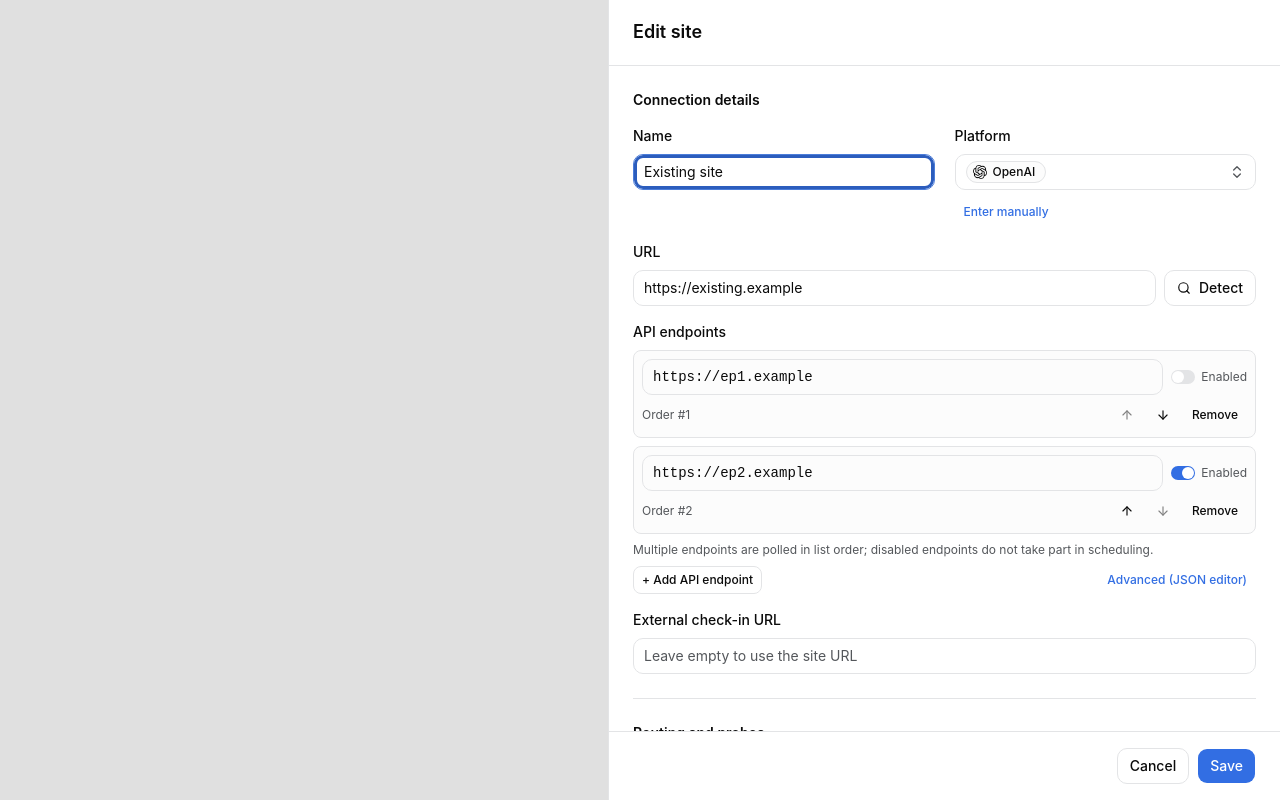
Scenario: SiteFormSheet apiEndpoints untouched-preserve semantics › marks the form dirty for the dirty-close guard when only the editor changes
What coordinates should you click on to do the following:
click the switch named "Enable endpoint 1"
I would click on:
 (1183, 377)
Its box is [1171,370,1195,384].
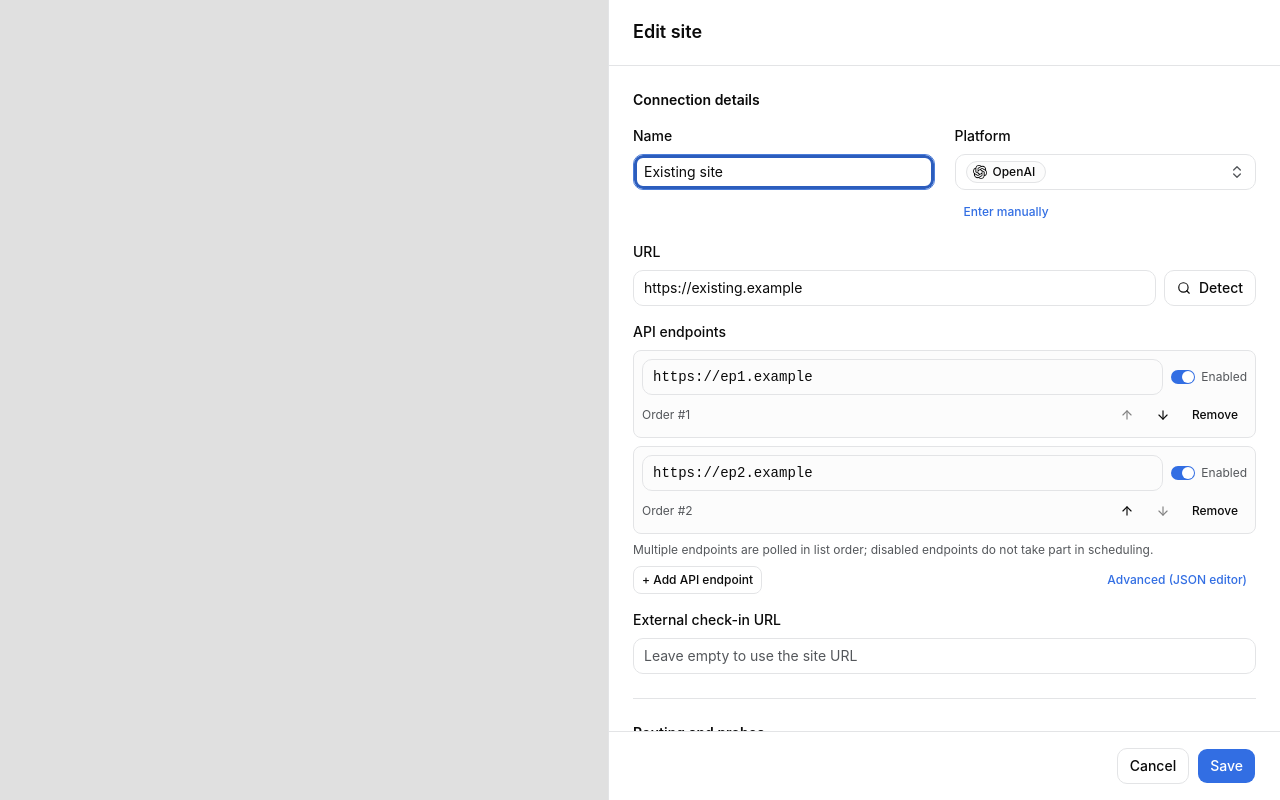
What coordinates should you click on to do the following:
click the button "Cancel"
I would click on:
 (1153, 766)
Its box is [1117,748,1189,784].
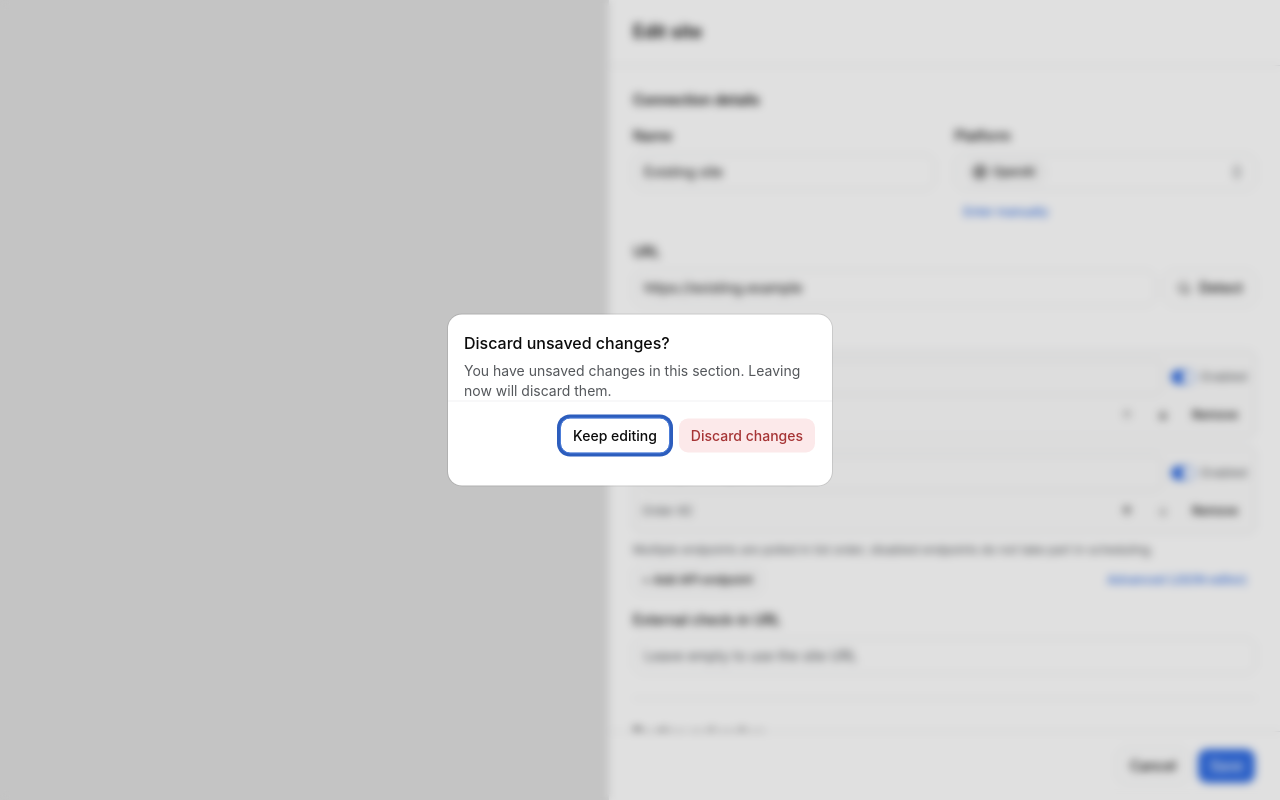
Now the heading "Discard unsaved changes?" is shown, box [464,330,670,354]
